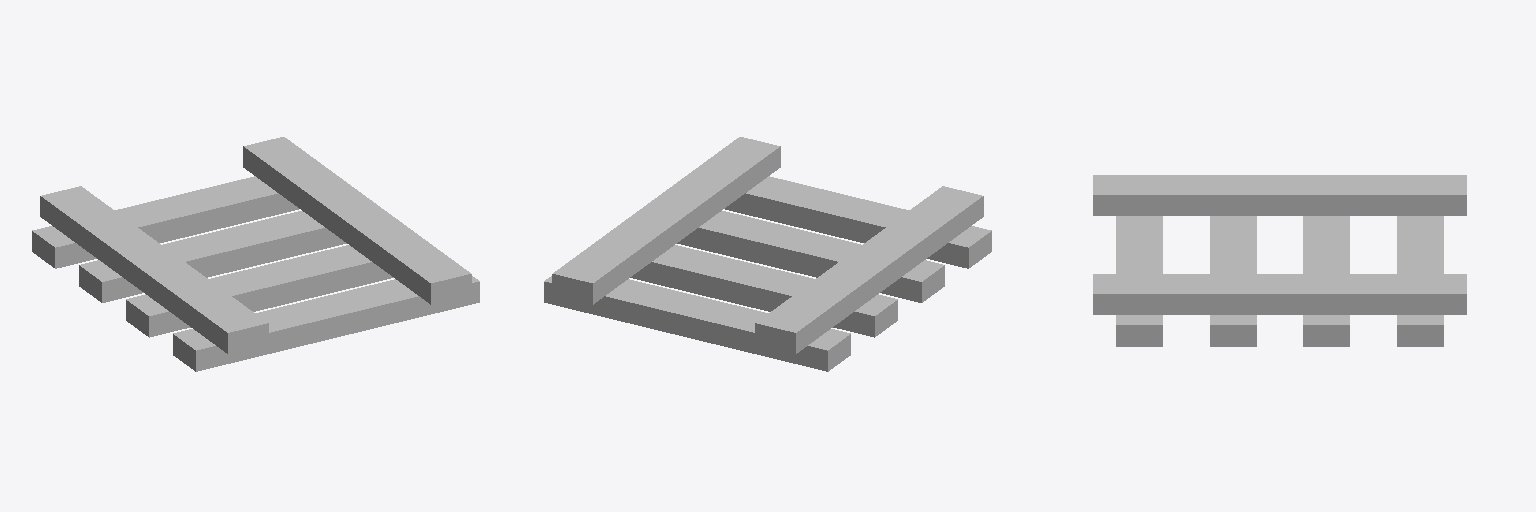
Rendered from sm_mapnodes_rail.obj.
3 renders of one model, left to right at view 1: azimuth 30°, elevation 25°; view 2: azimuth 150°, elevation 25°; view 3: azimuth 270°, elevation 25°, orthographic.
Visible parts, largest first — view 1: Rail1_Cube.001; view 2: Rail1_Cube.001; view 3: Rail1_Cube.001.
Boxes of the visible parts, x1=… form: Rail1_Cube.001: x1=32, y1=137, x2=479, y2=371; Rail1_Cube.001: x1=544, y1=137, x2=991, y2=371; Rail1_Cube.001: x1=1093, y1=175, x2=1466, y2=346.
Size of the model in its own units: 0.875 by 0.125 by 1.